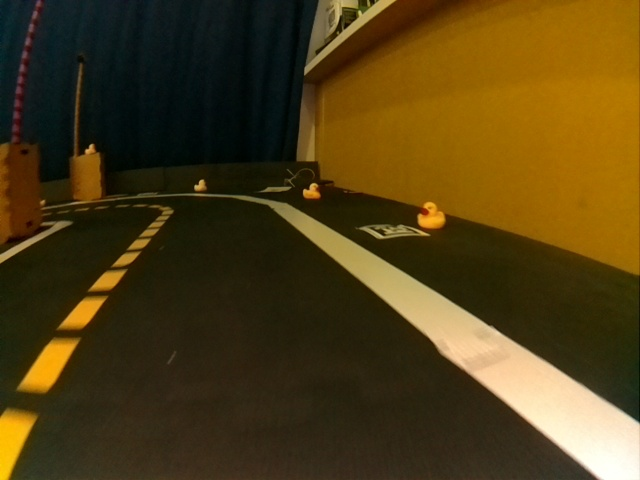Duckie: (418, 204, 446, 228), (305, 184, 316, 199), (195, 181, 206, 191), (87, 145, 96, 154)
QR code: (364, 224, 428, 238)
